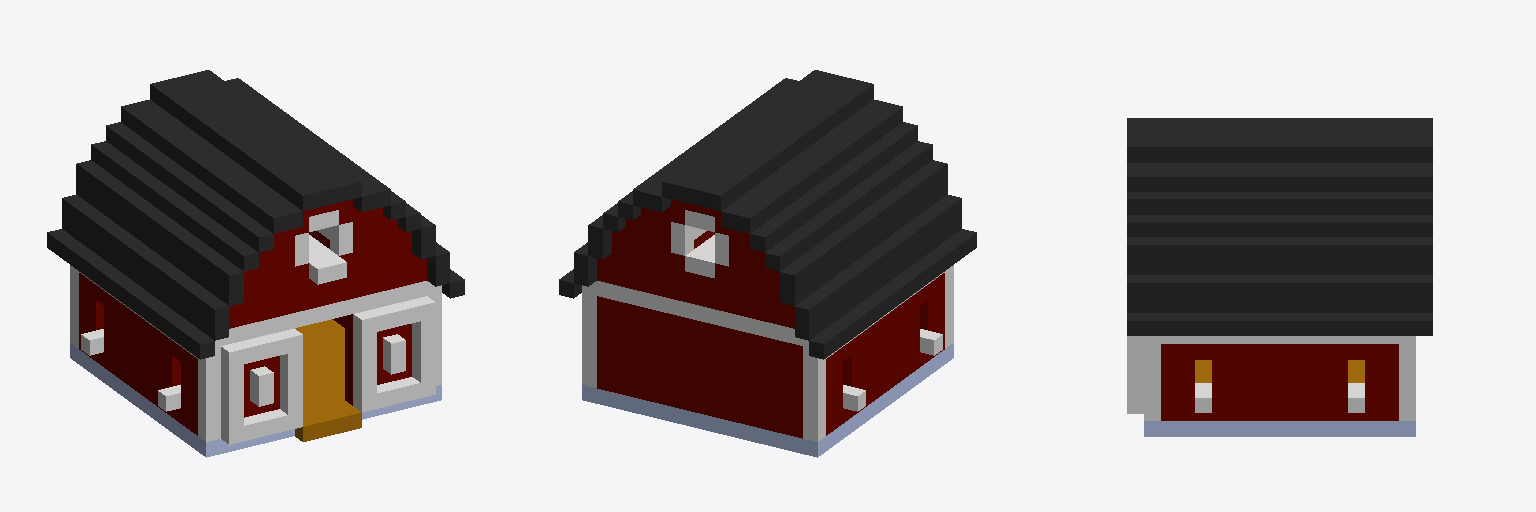
3 renders of one model, left to right at view 1: azimuth 30°, elevation 25°; view 2: azimuth 150°, elevation 25°; view 3: azimuth 270°, elevation 25°, orthographic.
Parts seen in each view (by area): view 1: Matrix; view 2: Matrix; view 3: Matrix.
Part boxes in pixels (left/top/right/bottom): Matrix: left=47, top=70, right=464, bottom=457; Matrix: left=559, top=70, right=976, bottom=457; Matrix: left=1127, top=118, right=1432, bottom=436.
Size of the model in its own units: 18 by 16 by 18.
Materials: 1 (1 with a texture image).